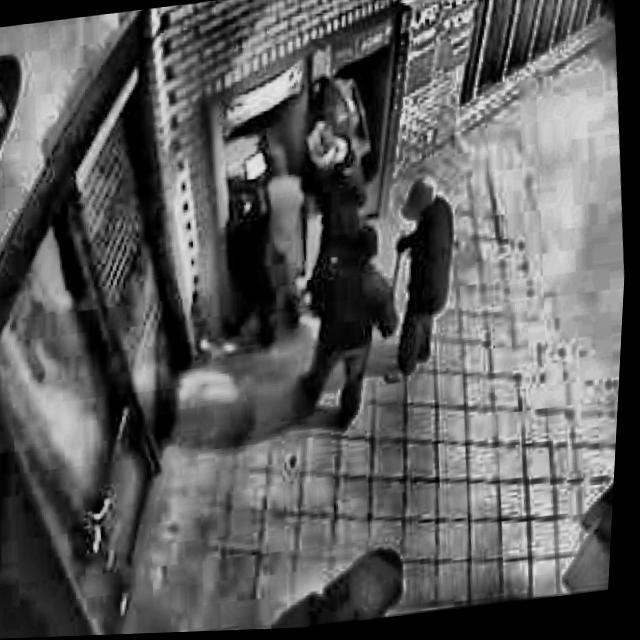burglary: (206, 55, 479, 409)
